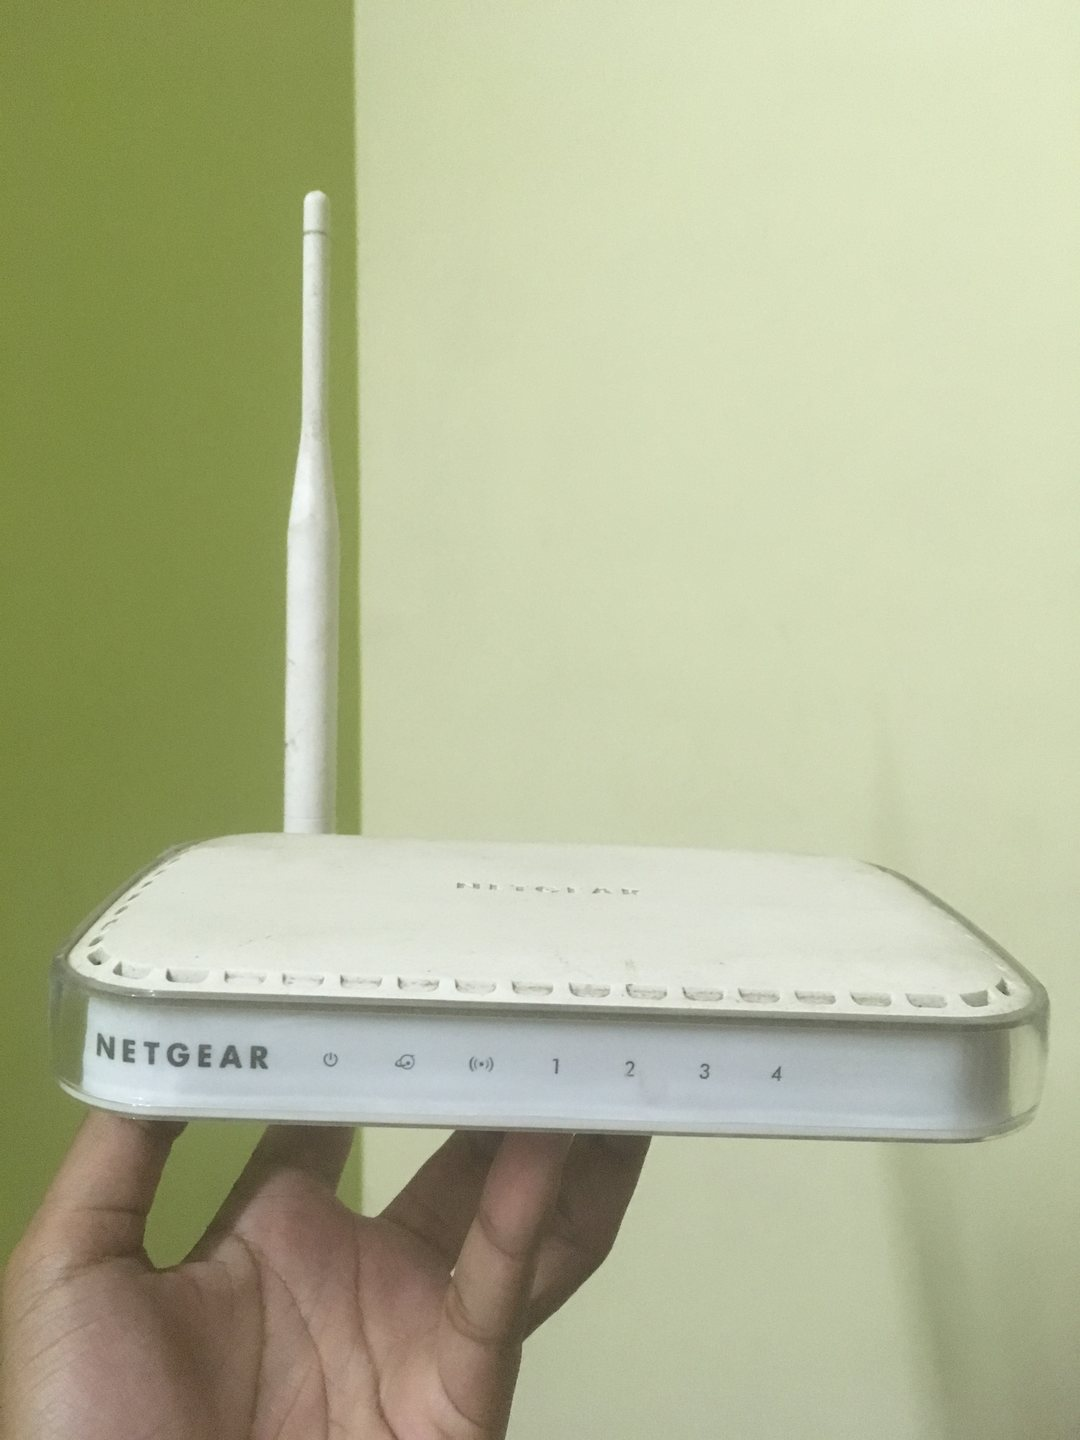NETGEAR: (88, 1026, 278, 1081)
modem: (44, 952, 1063, 1144)
